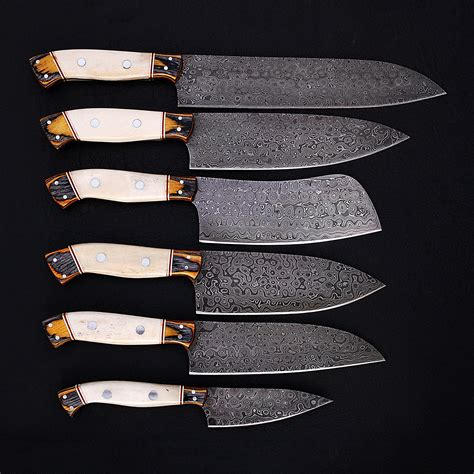knife: (44, 241, 388, 315), (29, 49, 448, 109), (43, 170, 383, 243), (37, 106, 412, 170), (40, 312, 387, 375), (56, 382, 337, 429)
